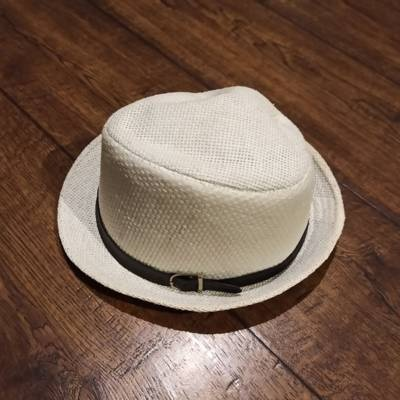Hat: (43, 68, 392, 322)
